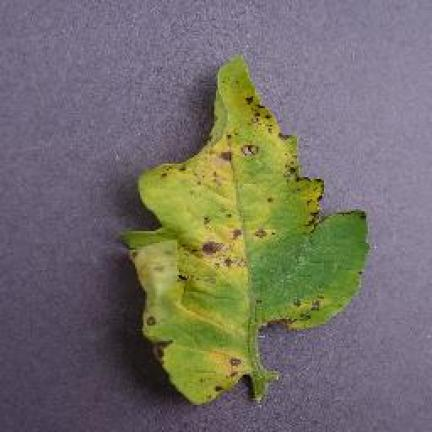disease: (123, 57, 366, 402)
leaf: (235, 79, 240, 84)
